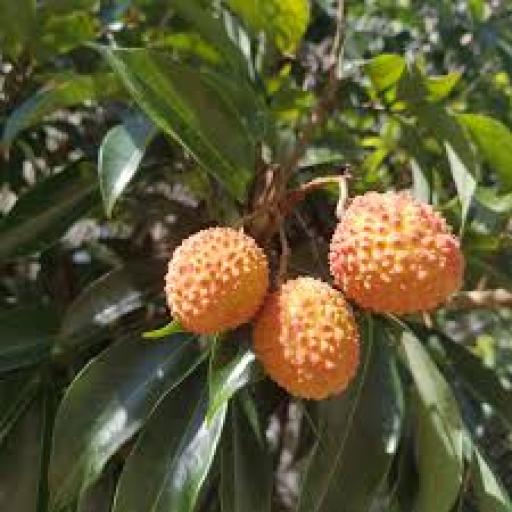lychee: (330, 192, 464, 314), (253, 278, 359, 400), (167, 228, 268, 334)
